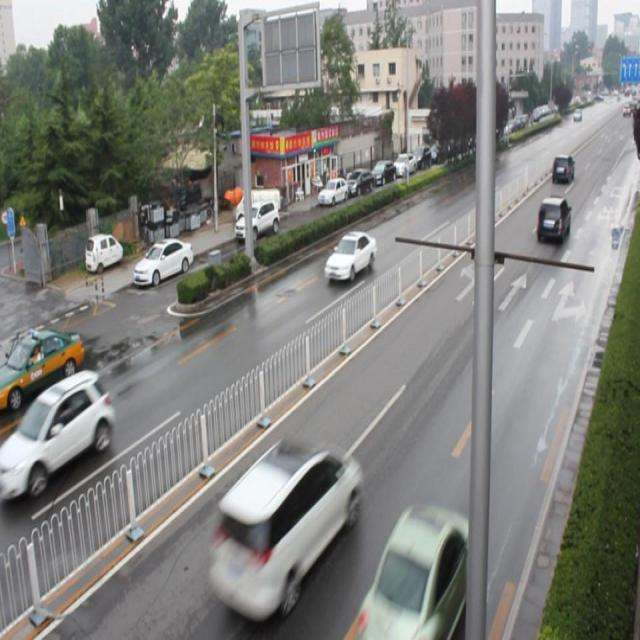car: (205, 438, 361, 604), (364, 506, 478, 640), (12, 369, 112, 499), (324, 229, 375, 290)
truck: (534, 196, 569, 240), (550, 154, 572, 183)
